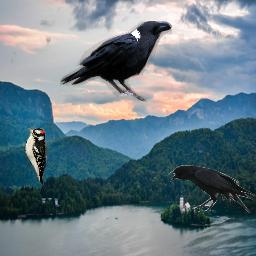Crow: (60, 21, 172, 102), (168, 165, 256, 213)
Woodpecker: (24, 128, 47, 186)
